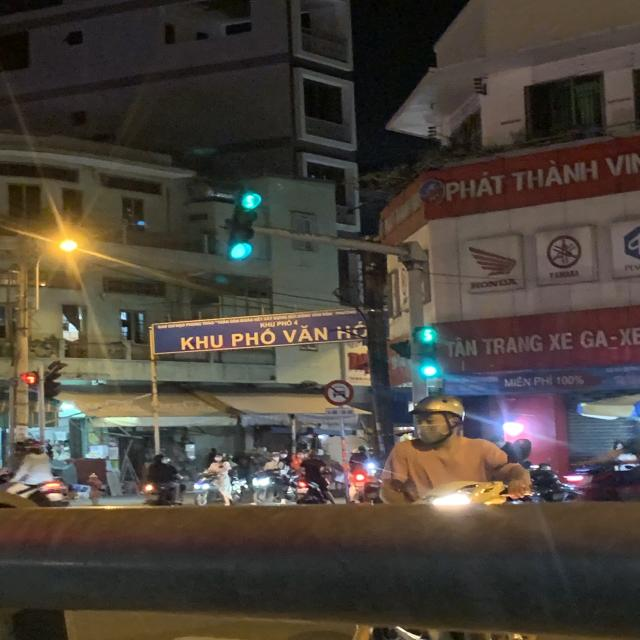Green: (226, 209, 262, 263), (413, 350, 439, 381)
